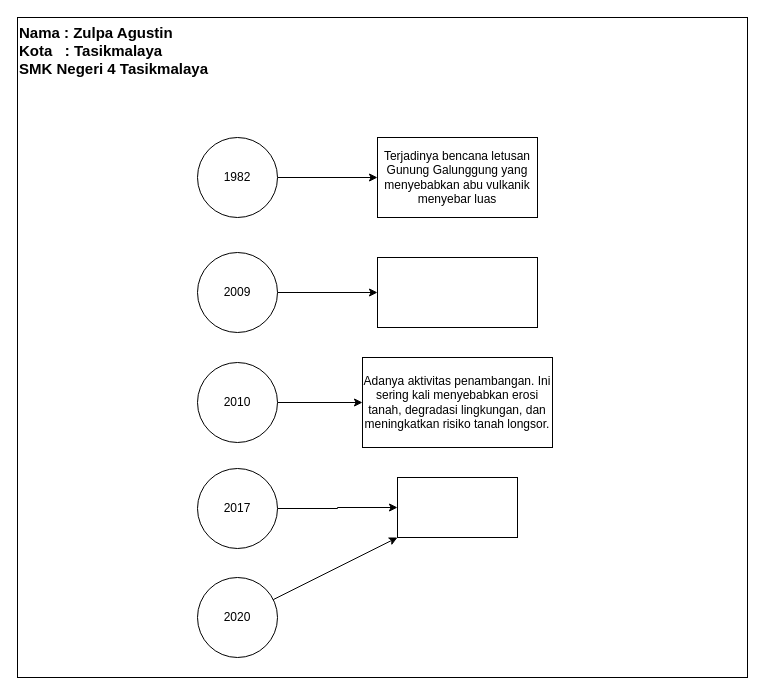
Image size: 765x695. Some labels were removed from this diagram. The shapes that lost their labels are listed below. From the top down, each one's centre as x and y in pixels, then its label:
the point at 457,292: Terjadinya Gempa Bumi berkekuatan 7,3 skala Richter mengguncang Jawa Barat
the point at 457,507: Tanah longsor di daerah yang mengalami deforestasi
